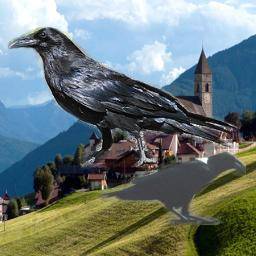Crow: (8, 26, 246, 171), (98, 150, 246, 225)
